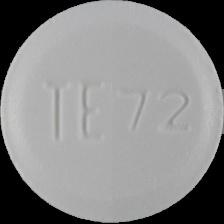0093-7272: (0, 0, 224, 224)
